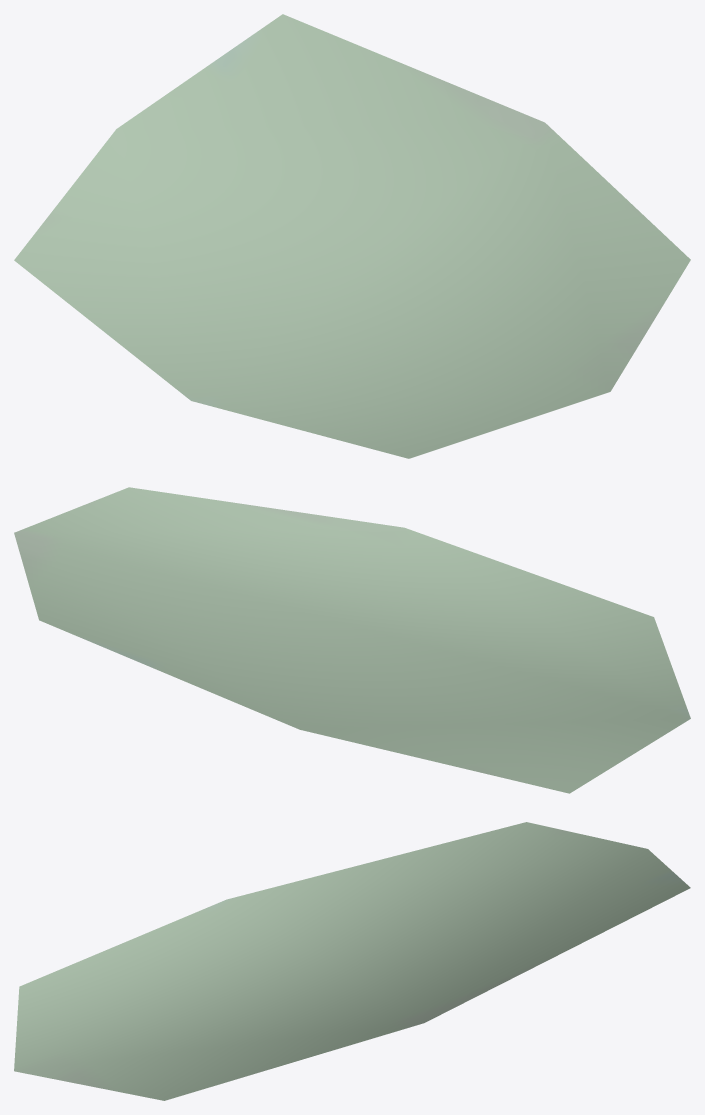
File: TROLLHOLE02_HOLECAP39.fbx
The picture shows the model from 3 angles, top to bottom: view 1: azimuth 30°, elevation 25°; view 2: azimuth 150°, elevation 25°; view 3: azimuth 270°, elevation 25°; orthographic projection. The views are drawn at different scales.
Visible parts, largest first — view 1: TROLLHOLE02_HOLECAP39; view 2: TROLLHOLE02_HOLECAP39; view 3: TROLLHOLE02_HOLECAP39.
Boxes of the visible parts, left/top/right/bottom form: TROLLHOLE02_HOLECAP39: left=14, top=14, right=690, bottom=458; TROLLHOLE02_HOLECAP39: left=14, top=487, right=690, bottom=793; TROLLHOLE02_HOLECAP39: left=14, top=822, right=690, bottom=1100.
Bounding box in the file's own units: 27454 × 9083 × 28590.
Materials: 1 (1 with a texture image).
